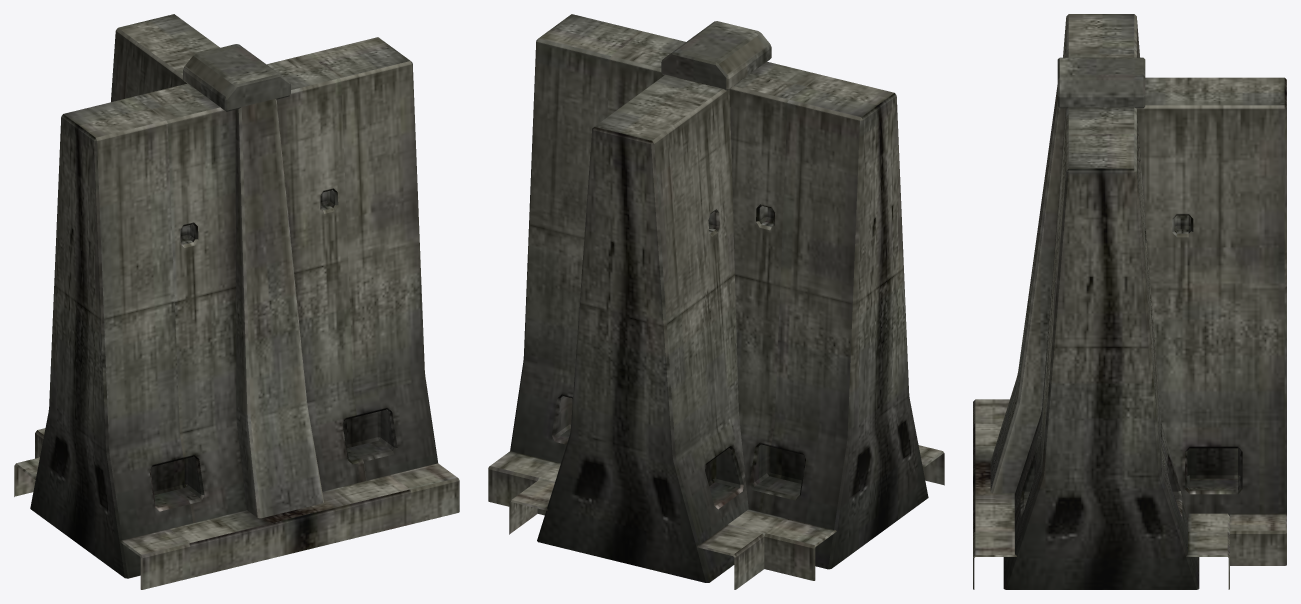
Rendered from stone-wall-new.glb.
3 renders of one model, left to right at view 1: azimuth 30°, elevation 25°; view 2: azimuth 150°, elevation 25°; view 3: azimuth 270°, elevation 25°, orthographic. The views are drawn at different scales.
Visible parts, largest first — view 1: body; view 2: body; view 3: body.
Boxes of the visible parts, x1=… form: body: x1=14, y1=14, x2=459, y2=589; body: x1=488, y1=14, x2=944, y2=589; body: x1=973, y1=14, x2=1286, y2=589.
Bounding box in the file's own units: 1 × 1.32 × 0.8466.
Materials: 1 (1 with a texture image).
